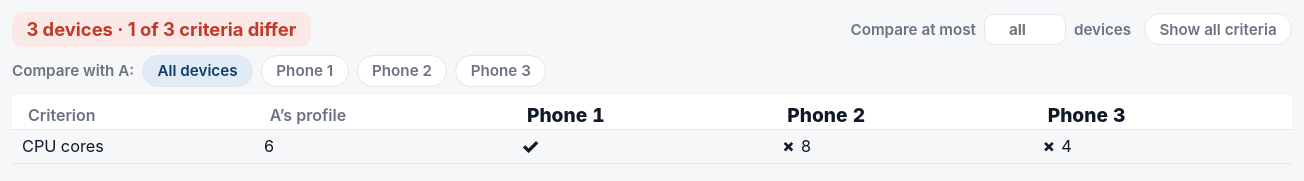
Test: DeviceRunsCompare › le champ « Compare at most » limite les appareils comparés (vide = tous)
The image size is (1304, 181).
Expected: the text with test id "runs-summary" shows "3 devices", [12, 12, 311, 47]
Type "2" into the number field named "Maximum number of devices compared" at (1025, 29), box [984, 14, 1066, 45]
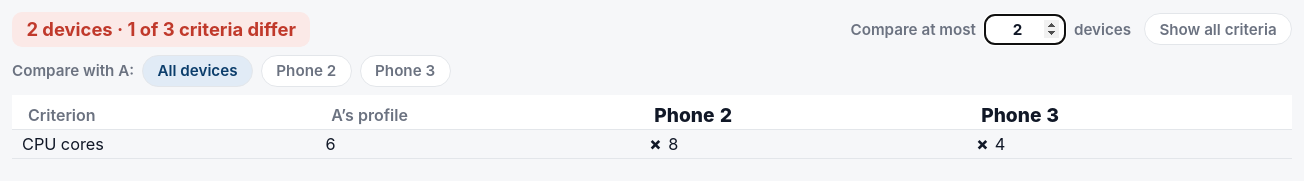
Expected: the text with test id "runs-summary" shows "2 devices", [12, 12, 310, 47]
Expected: the button "Phone 1" is gone
Clear the number field named "Maximum number of devices compared" at (1025, 29), box [984, 14, 1066, 45]
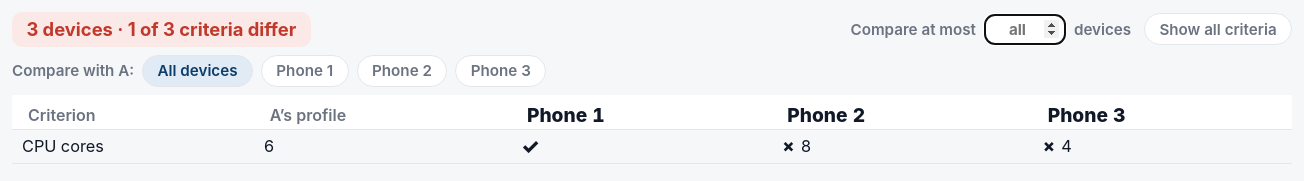
Expected: the text with test id "runs-summary" shows "3 devices", [12, 12, 311, 47]
